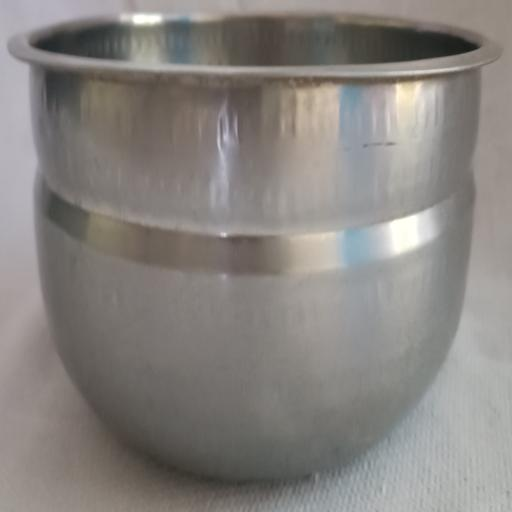vessel: (9, 14, 499, 480)
